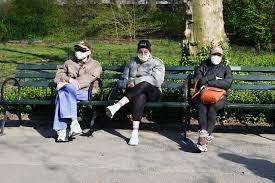Bad: (106, 40, 231, 151), (52, 40, 166, 146)
